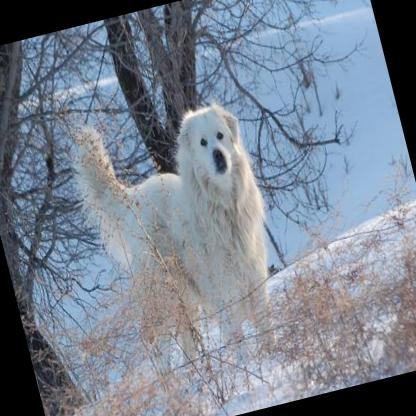Great_Pyrenees: (62, 90, 300, 396)
